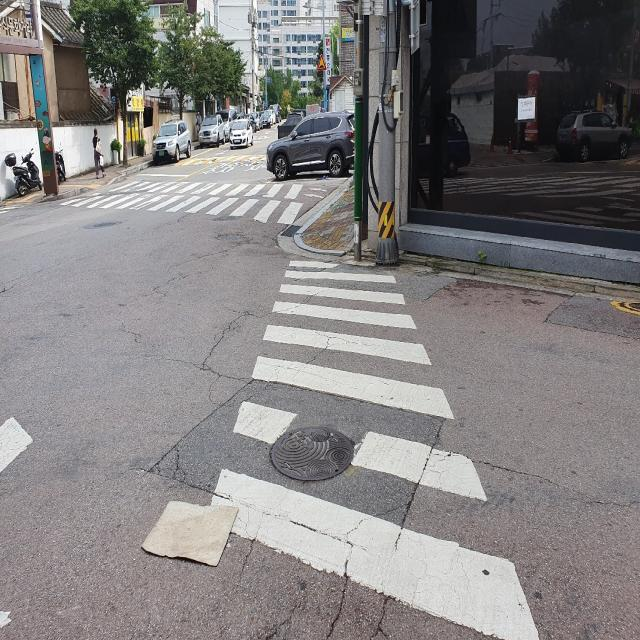횡단보도: (211, 259, 539, 640), (54, 160, 311, 232)
